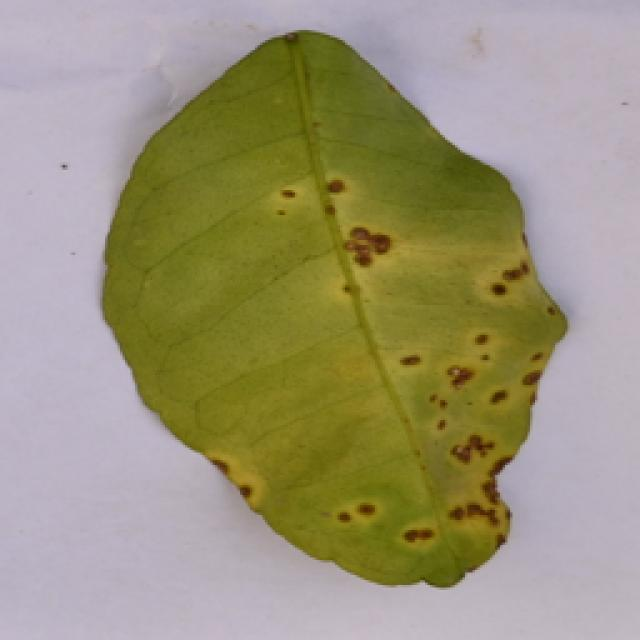canker: (110, 44, 572, 588)
